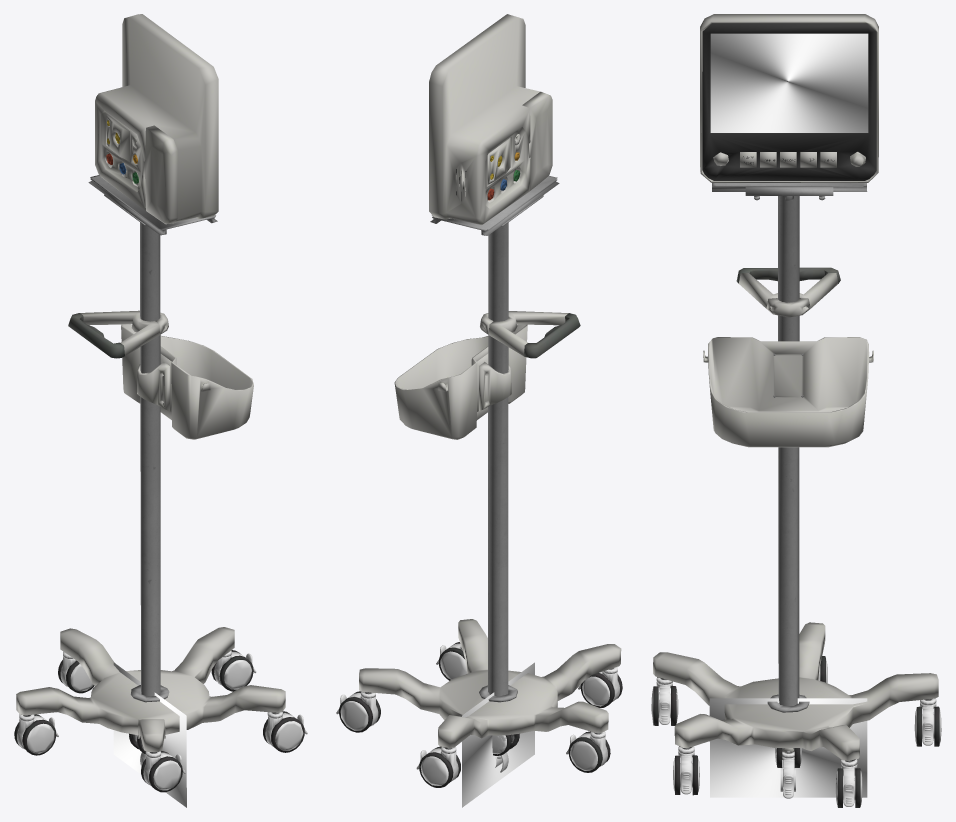
The model's file is monitor_patient_a01.glb.
3 renders of one model, left to right at view 1: azimuth 30°, elevation 25°; view 2: azimuth 150°, elevation 25°; view 3: azimuth 270°, elevation 25°, orthographic. The views are drawn at different scales.
Visible parts, largest first — view 1: base_01_mesh_00, screen_01_mesh_00, tire_03_mesh_00, tire_02_mesh_00, tire_04_mesh_00, tire_05_mesh_00, tire_01_mesh_00; view 2: base_01_mesh_00, screen_01_mesh_00, tire_02_mesh_00, tire_01_mesh_00, tire_05_mesh_00, tire_03_mesh_00, tire_04_mesh_00; view 3: base_01_mesh_00, screen_01_mesh_00 (×2), tireBase_03_mesh_00 (×2), tireBase_05_mesh_00, tireBase_04_mesh_00, tireBase_01_mesh_00, tire_04_mesh_00, tire_03_mesh_00, tire_05_mesh_00, tire_01_mesh_00.
Boxes of the visible parts, bbox=[...] form: base_01_mesh_00: bbox=[16, 14, 285, 752]; screen_01_mesh_00: bbox=[113, 662, 186, 807]; tire_03_mesh_00: bbox=[141, 751, 182, 792]; tire_02_mesh_00: bbox=[14, 714, 56, 755]; tire_04_mesh_00: bbox=[263, 711, 304, 752]; tire_05_mesh_00: bbox=[211, 650, 253, 691]; tire_01_mesh_00: bbox=[58, 660, 94, 693]; base_01_mesh_00: bbox=[359, 14, 621, 748]; screen_01_mesh_00: bbox=[462, 662, 534, 807]; tire_02_mesh_00: bbox=[568, 731, 610, 772]; tire_01_mesh_00: bbox=[419, 746, 460, 787]; tire_05_mesh_00: bbox=[339, 691, 380, 732]; tire_03_mesh_00: bbox=[580, 673, 622, 707]; tire_04_mesh_00: bbox=[439, 642, 467, 680]; base_01_mesh_00: bbox=[653, 14, 938, 760]; screen_01_mesh_00 (×2): bbox=[709, 33, 868, 797]; tireBase_03_mesh_00 (×2): bbox=[656, 677, 795, 798]; tireBase_05_mesh_00: bbox=[841, 759, 857, 806]; tireBase_04_mesh_00: bbox=[678, 746, 694, 794]; tireBase_01_mesh_00: bbox=[920, 698, 936, 745]; tire_04_mesh_00: bbox=[673, 755, 699, 795]; tire_03_mesh_00: bbox=[651, 686, 678, 725]; tire_05_mesh_00: bbox=[835, 768, 862, 807]; tire_01_mesh_00: bbox=[914, 706, 941, 746].
Bounding box in the file's own units: 0.5753 × 1.6 × 0.53.
50 materials, 39 textured.
